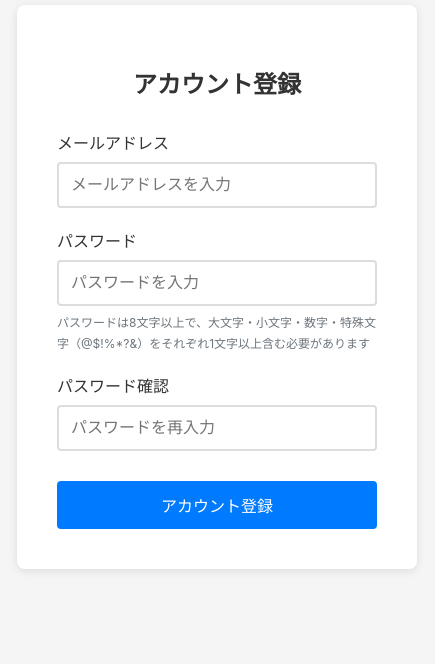
Scenario: RegisterForm › validates required fields
Click the button "アカウント登録".
click(217, 504)  # box [57,480,377,528]
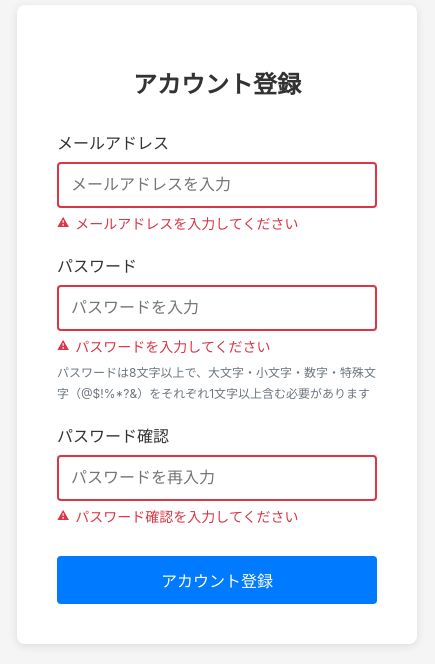
Check: the text "メールアドレスを入力してください" is shown, box [75,215,298,232]
Check: the text "パスワードを入力してください" is shown, box [75,338,270,355]
Check: the text "パスワード確認を入力してください" is shown, box [75,508,298,524]
